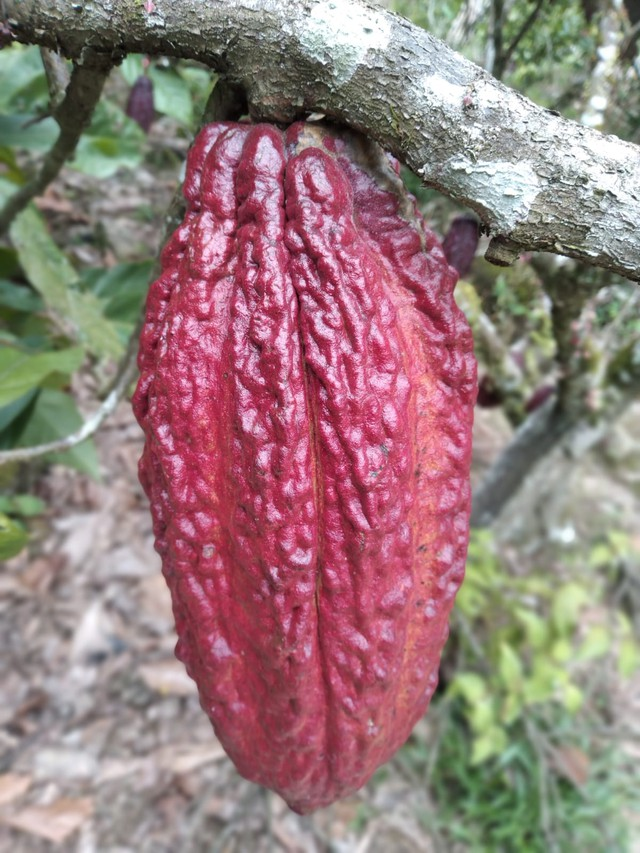Health: (107, 86, 508, 833)
